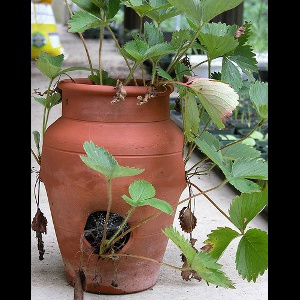flowerpot: (39, 77, 186, 290)
